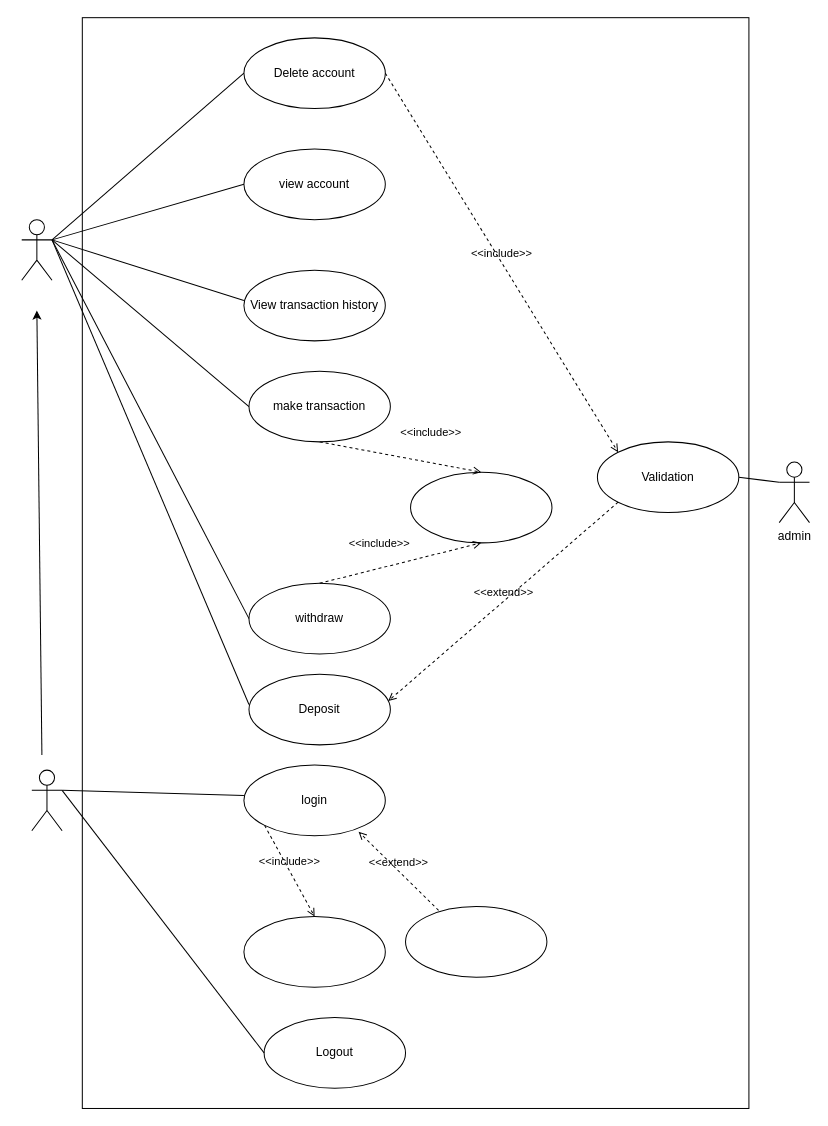
Image size: 828x1126. Some labels were removed from this diagram. The shapes that lost their labels are listed below. From the top down, each one's box as (x1, y1, x2, y2) in pixels, then its label:
(21, 219, 52, 280): user
(410, 471, 552, 543): check amount
(31, 769, 62, 831): Registered user
(243, 916, 385, 987): verify password
(405, 905, 547, 977): display connexion error
